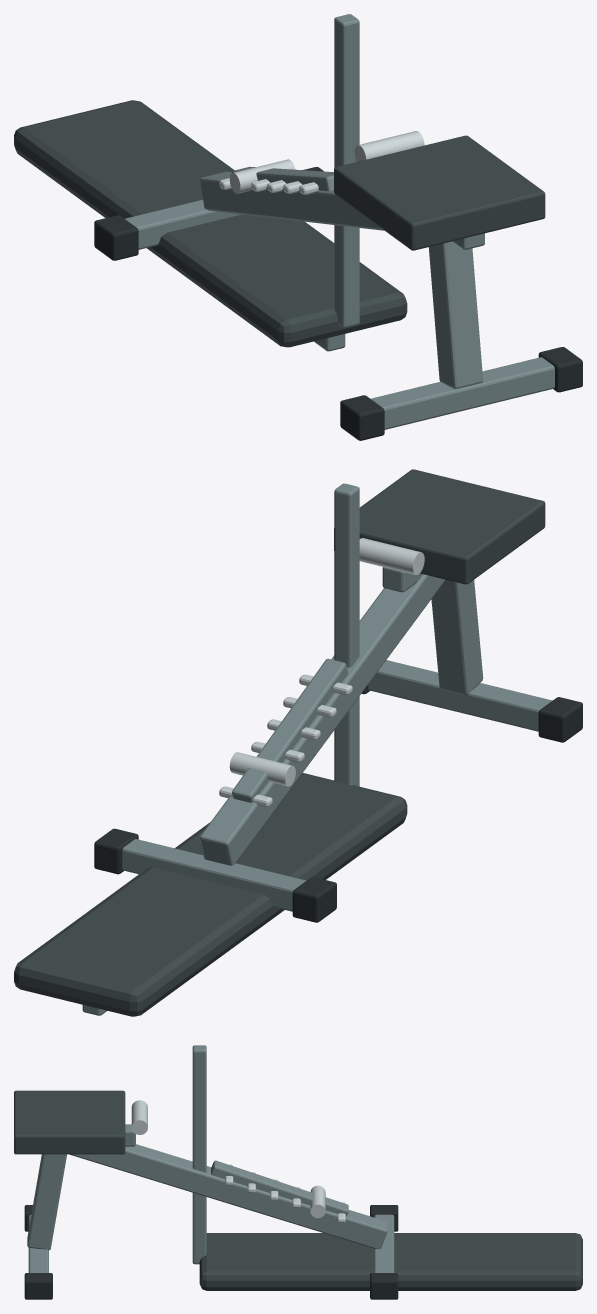
The model's file is bench.v1.glb.
3 views of the same model, one above another, from view 1: azimuth 30°, elevation 25°; view 2: azimuth 150°, elevation 25°; view 3: azimuth 270°, elevation 25° (orthographic). The views are drawn at different scales.
Visible parts, largest first — view 1: Back cushion, Adjustment rail, Seat, Incline brace, Floor cap, Adjustment notch; view 2: Back cushion, Adjustment rail, Seat, Incline brace, Floor cap, Adjustment notch; view 3: Back cushion, Adjustment rail, Seat, Incline brace, Floor cap, Adjustment notch.
Boxes of the visible parts, <box> form: Back cushion: <box>14,100,407,347</box>; Adjustment rail: <box>125,166,554,429</box>; Seat: <box>334,135,545,250</box>; Incline brace: <box>334,14,359,327</box>; Floor cap: <box>94,167,582,440</box>; Adjustment notch: <box>219,131,424,194</box>; Back cushion: <box>14,773,407,1016</box>; Adjustment rail: <box>122,567,552,911</box>; Seat: <box>334,469,545,584</box>; Incline brace: <box>334,483,359,786</box>; Floor cap: <box>94,685,582,922</box>; Adjustment notch: <box>219,538,424,807</box>; Back cushion: <box>199,1233,582,1290</box>; Adjustment rail: <box>27,1124,394,1272</box>; Seat: <box>14,1090,125,1154</box>; Incline brace: <box>192,1045,206,1264</box>; Floor cap: <box>24,1205,398,1299</box>; Adjustment notch: <box>131,1100,345,1222</box>.
Size of the model in its own units: 0.77 by 1.11 by 2.41.
